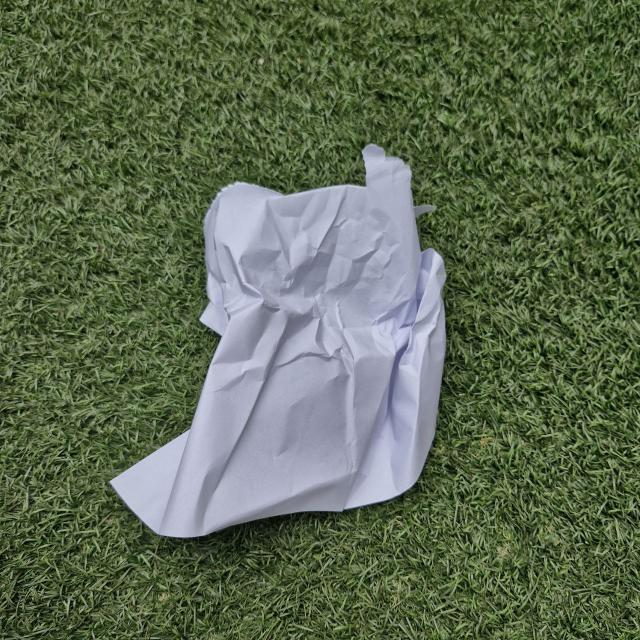paper: (110, 144, 453, 540)
